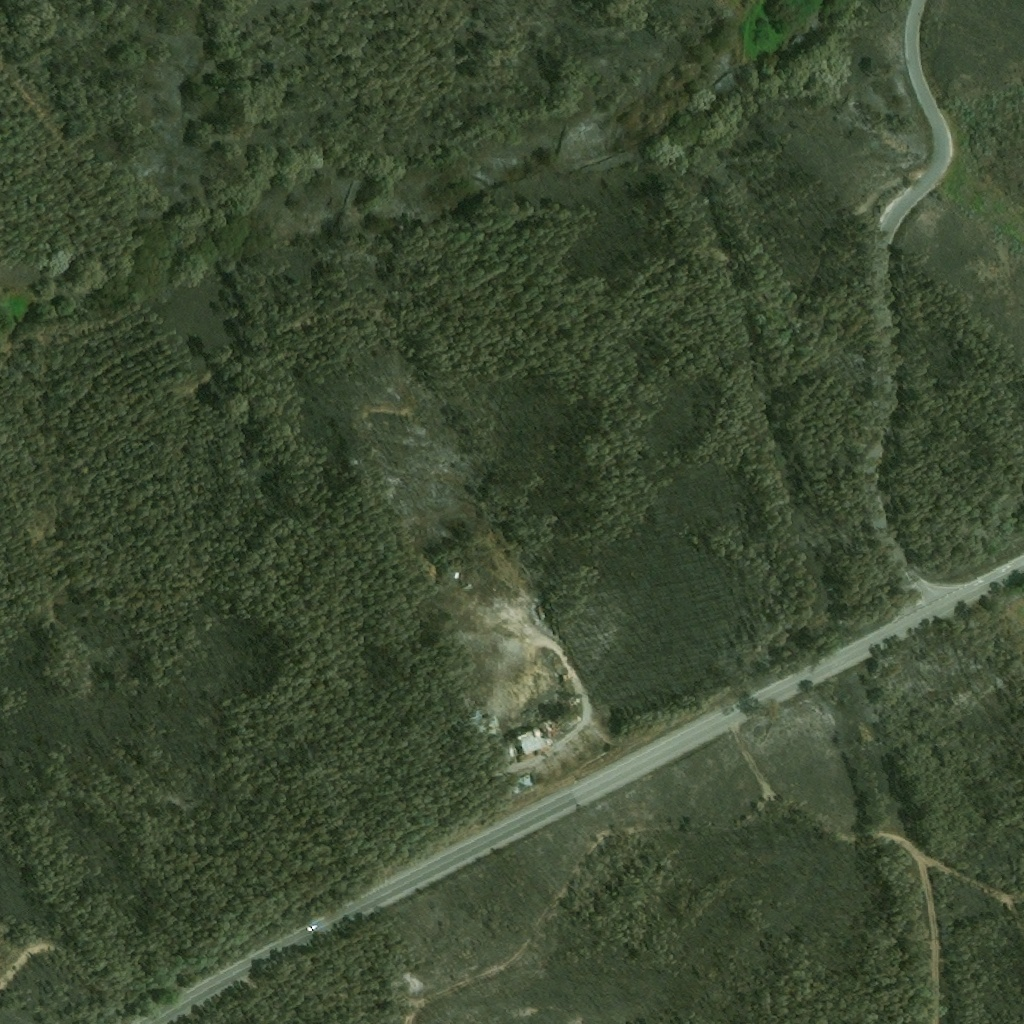3 destroyed: (511, 725, 553, 763), (470, 710, 503, 747), (509, 775, 532, 794), (557, 717, 576, 734)
